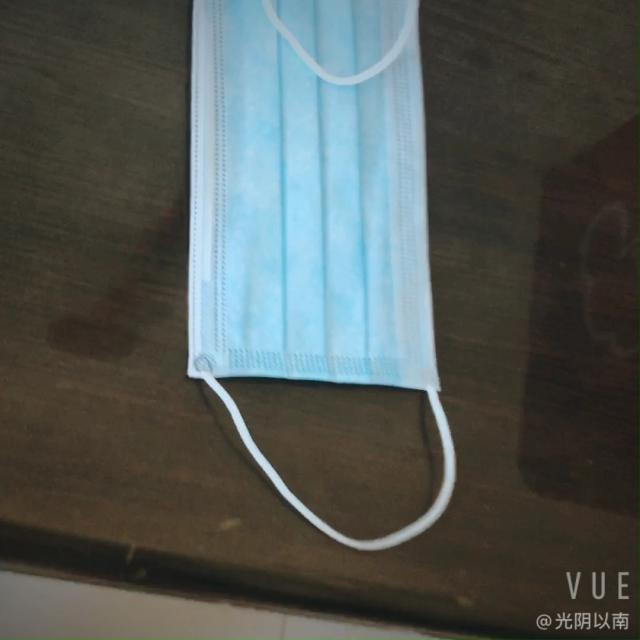face mask: (149, 0, 450, 377)
